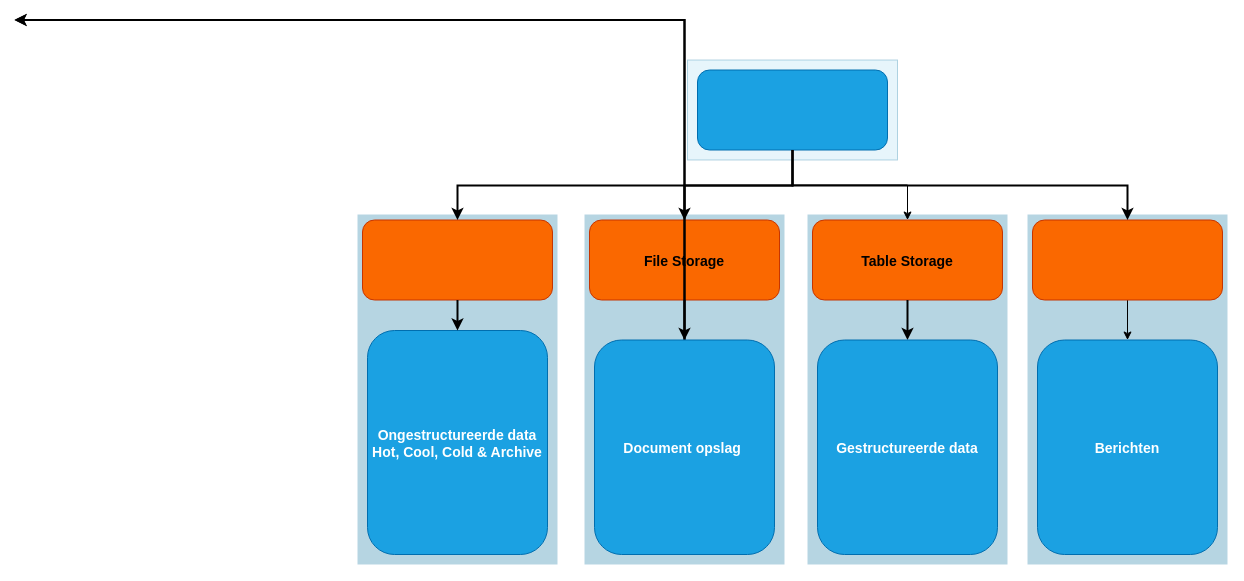
Image size: 1244x581. Some labels were removed from this diagram. Each missing label, with the box of its shape:
Azure Storage Types: (696, 69, 888, 150)
Blob Storage: (362, 219, 552, 300)
Queue Storage: (1032, 219, 1222, 300)
